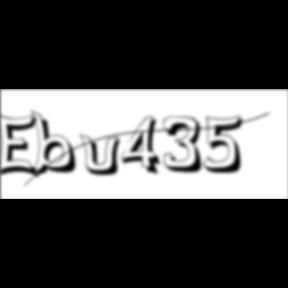3: (164, 116, 210, 176)
4: (120, 115, 168, 179)
5: (202, 114, 250, 176)
E: (0, 110, 44, 182)
b: (30, 109, 84, 179)
u: (80, 132, 128, 178)
